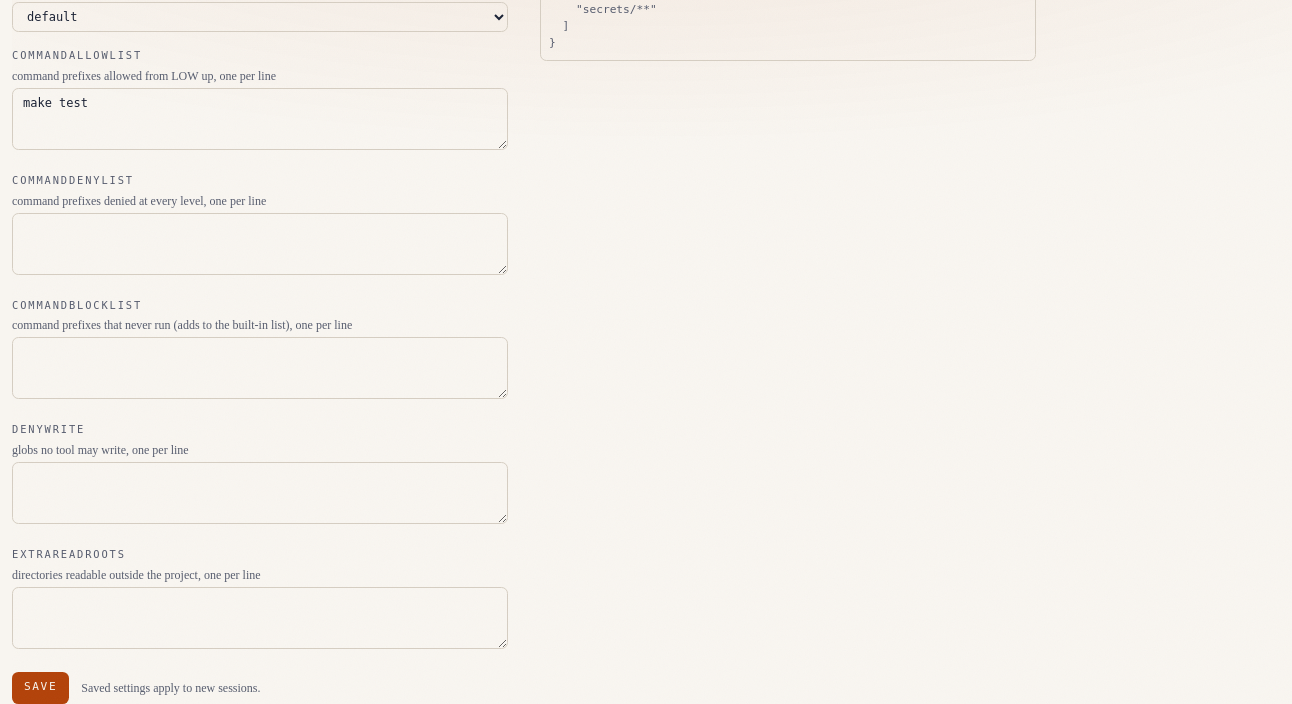
Test: SettingsView › says when a save was written but not applied
The image size is (1292, 704).
(page scrolled)
Click the button "save" at (41, 688), box [12,672,69,703]
(page scrolled)
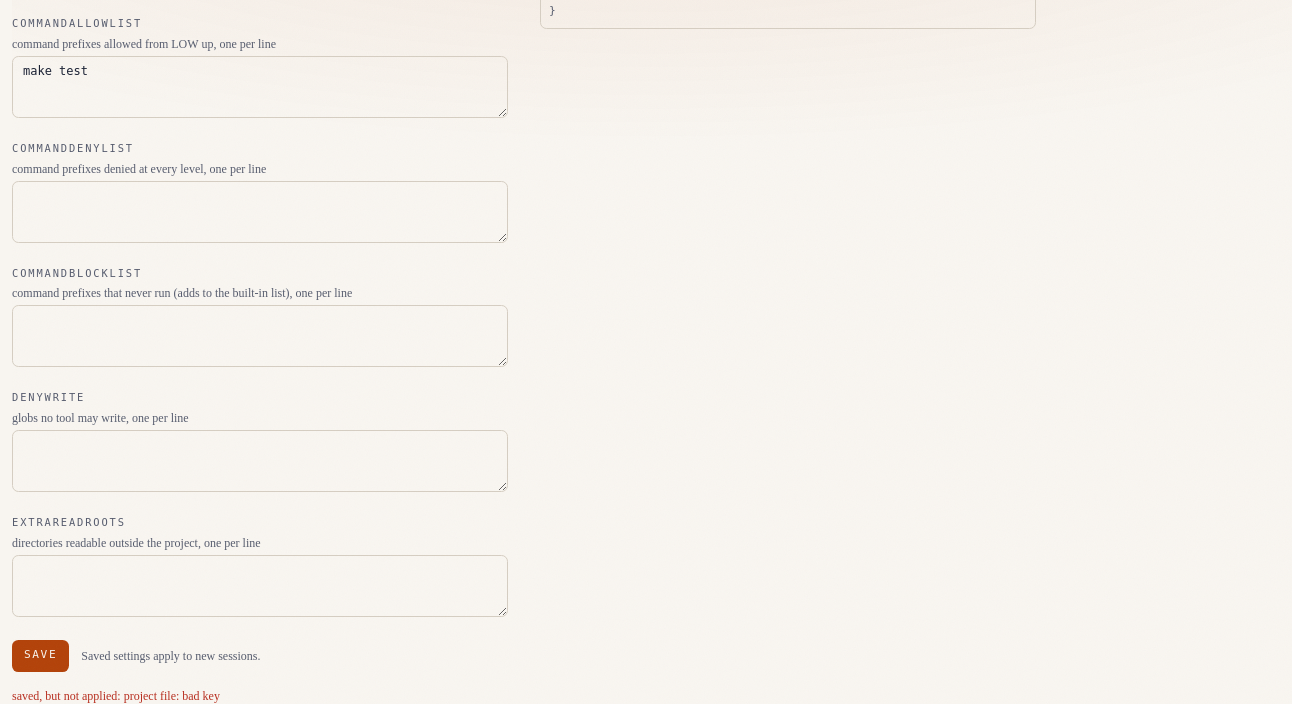
Expected: the message shows "not applied: project file: bad key", [12,688,220,702]
